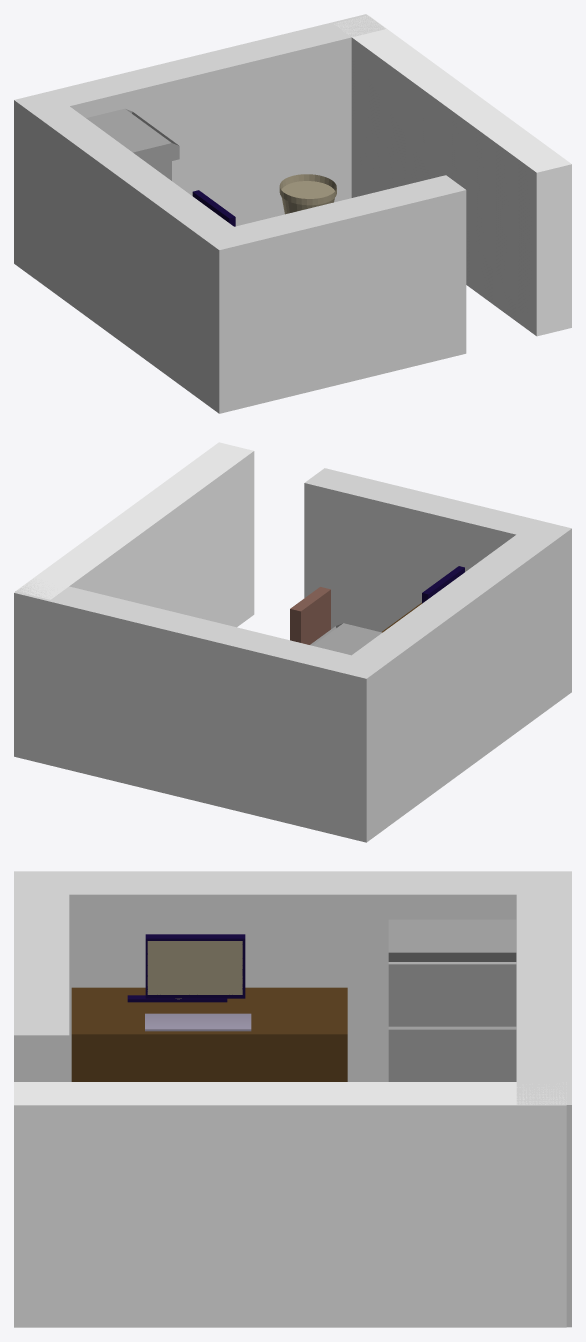
Rendered from Office.glb.
3 views of the same model, one above another, from view 1: azimuth 30°, elevation 25°; view 2: azimuth 150°, elevation 25°; view 3: azimuth 270°, elevation 25° (orthographic). The views are drawn at different scales.
Parts seen in each view (by area): view 1: Cube, Cube.002, Cube.001, Cube.003, Cube.010, Cylinder; view 2: Cube.002, Cube.001, Cube.003, Cube, Cube.009, Cube.010; view 3: Cube.003, Cube.001, Cube.004, Cube.010, Cube.002, Cube, Cube.011, Cube.005, Cube.007.
Boxes of the visible parts, box(x1,y1,x2,y2) form: Cube: box(200, 175, 466, 413); Cube.002: box(14, 14, 385, 277); Cube.001: box(34, 93, 252, 413); Cube.003: box(334, 15, 571, 336); Cube.010: box(86, 108, 179, 180); Cylinder: box(279, 174, 336, 214); Cube.002: box(14, 579, 386, 842); Cube.001: box(333, 520, 571, 827); Cube.003: box(15, 442, 254, 627); Cube: box(304, 468, 570, 631); Cube.009: box(290, 587, 330, 644); Cube.010: box(310, 623, 381, 655); Cube.003: box(14, 1082, 566, 1327); Cube.001: box(14, 871, 566, 1081); Cube.004: box(71, 987, 347, 1081); Cube.010: box(388, 919, 516, 1081); Cube.002: box(516, 871, 571, 1327); Cube: box(14, 871, 69, 1081); Cube.011: box(147, 941, 242, 994); Cube.005: box(145, 1013, 251, 1031); Cube.007: box(145, 934, 245, 998).
Bounding box in the file's own units: 5.01 × 2.49 × 5.05.
